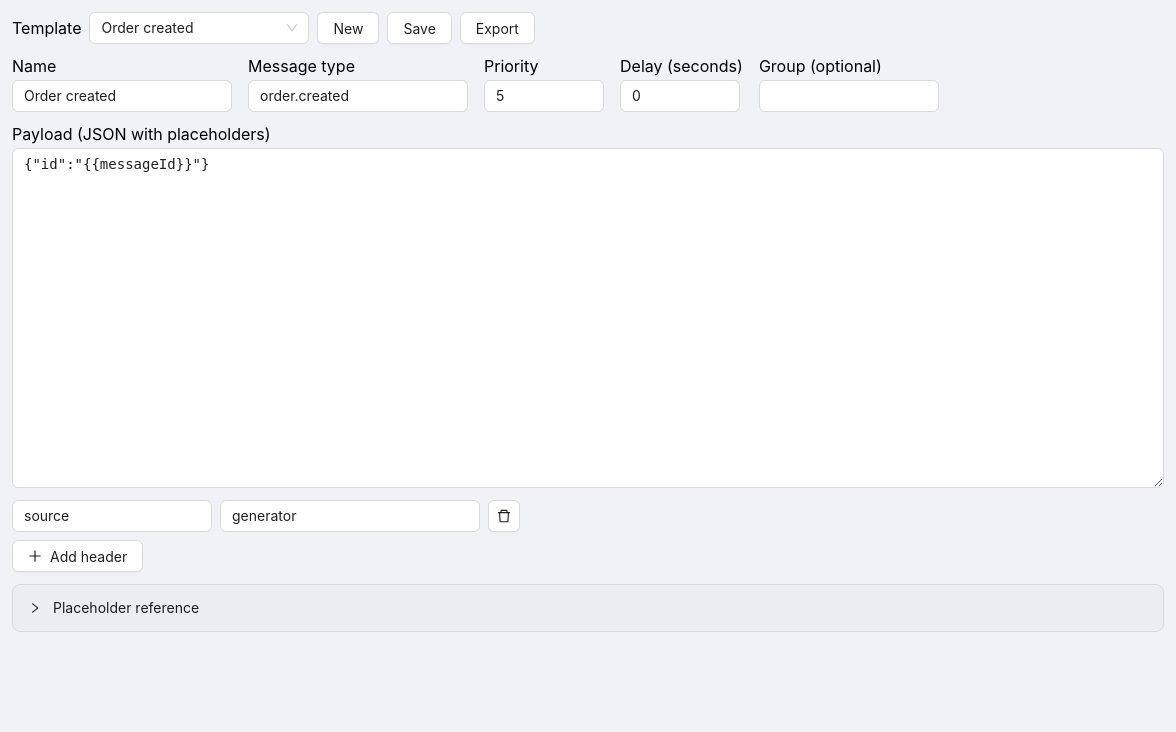
Test: TemplateEditor › lists stored templates and selecting one replaces the working copy
Step 1. Click the dropdown labelled "Template" → (47, 28), box x1=12 y1=18 x2=82 y2=38
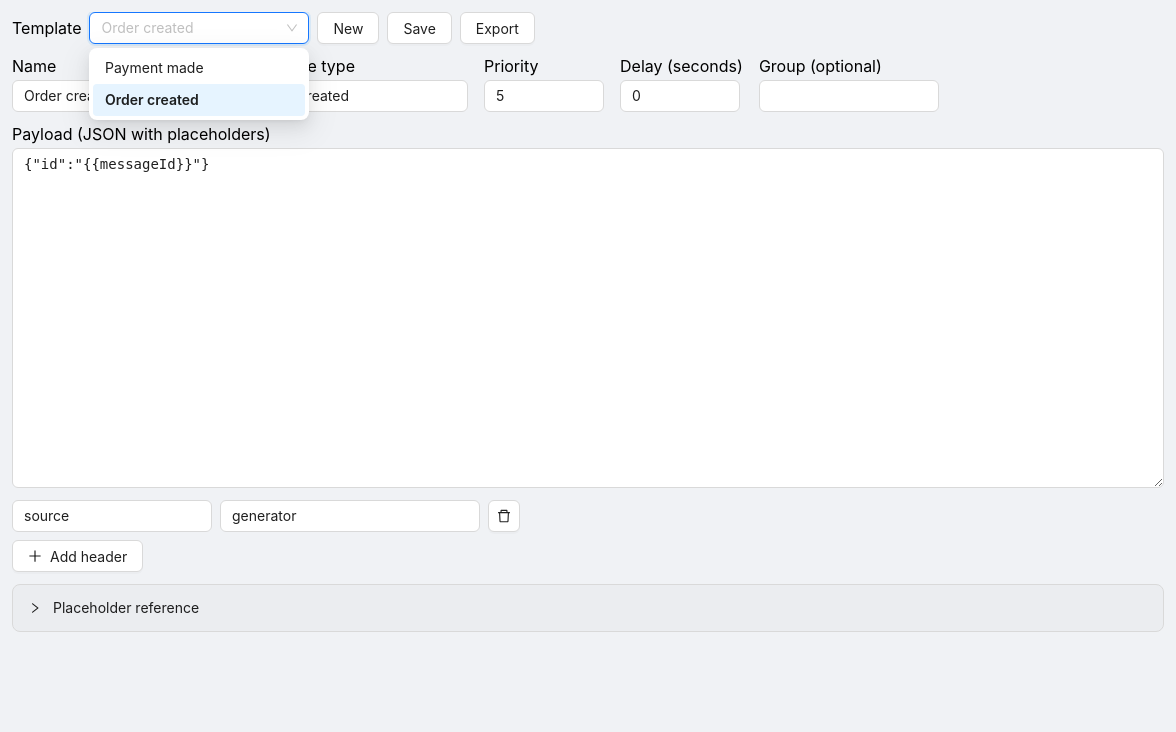
Step 2. Click the element titled "Payment made" → (154, 68), box x1=105 y1=59 x2=204 y2=76
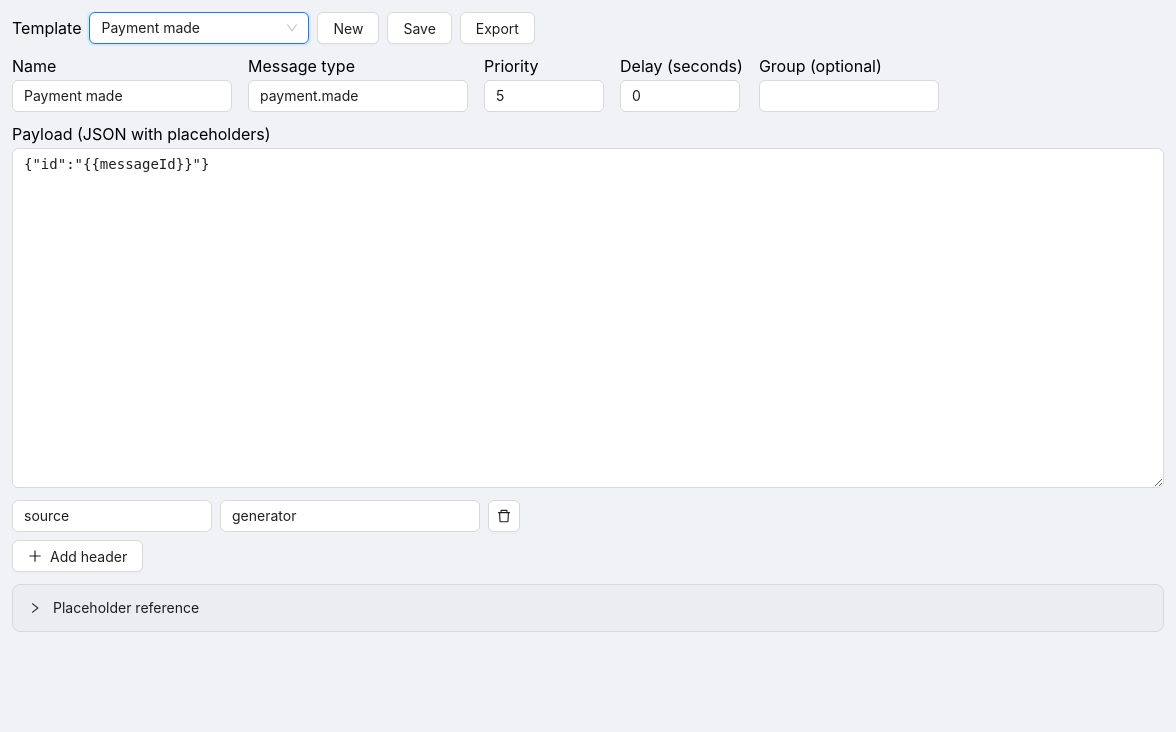
Expected: the field labelled "Message type" holds "payment.made", x1=248 y1=80 x2=468 y2=112
